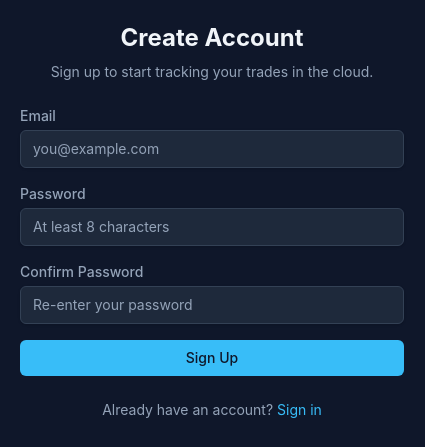
Test: SignupPage › shows validation error when email is empty
Type "validpass1" into the password field labelled "Password" at (212, 227), box [20,208,404,246]
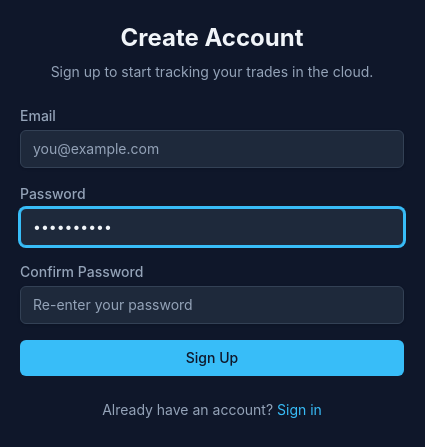
Type "validpass1" into the password field labelled "Confirm Password" at (212, 305), box [20,286,404,324]
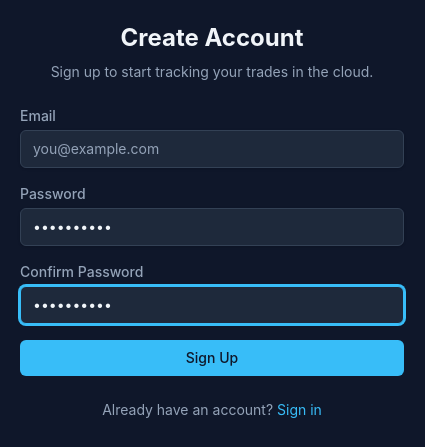
Click the button "Sign Up" at (212, 358), box [20,340,404,376]
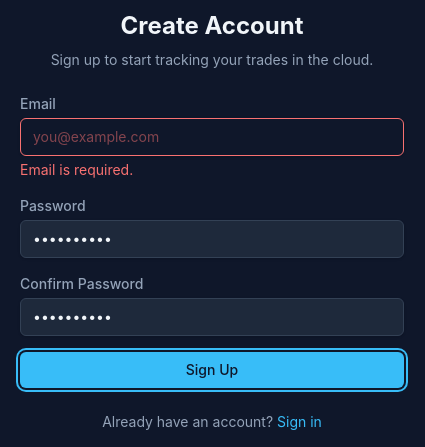
Now the text "Email is required." is shown, box [20,161,133,178]
